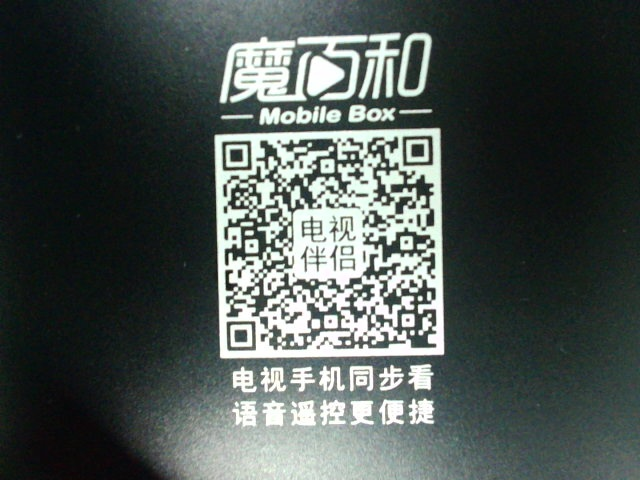AZ_MobileBox: (206, 28, 460, 430)
